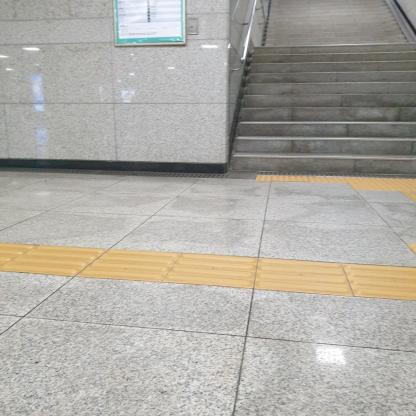go: (254, 257, 355, 297), (74, 249, 182, 282), (162, 253, 259, 289), (342, 262, 416, 301)
